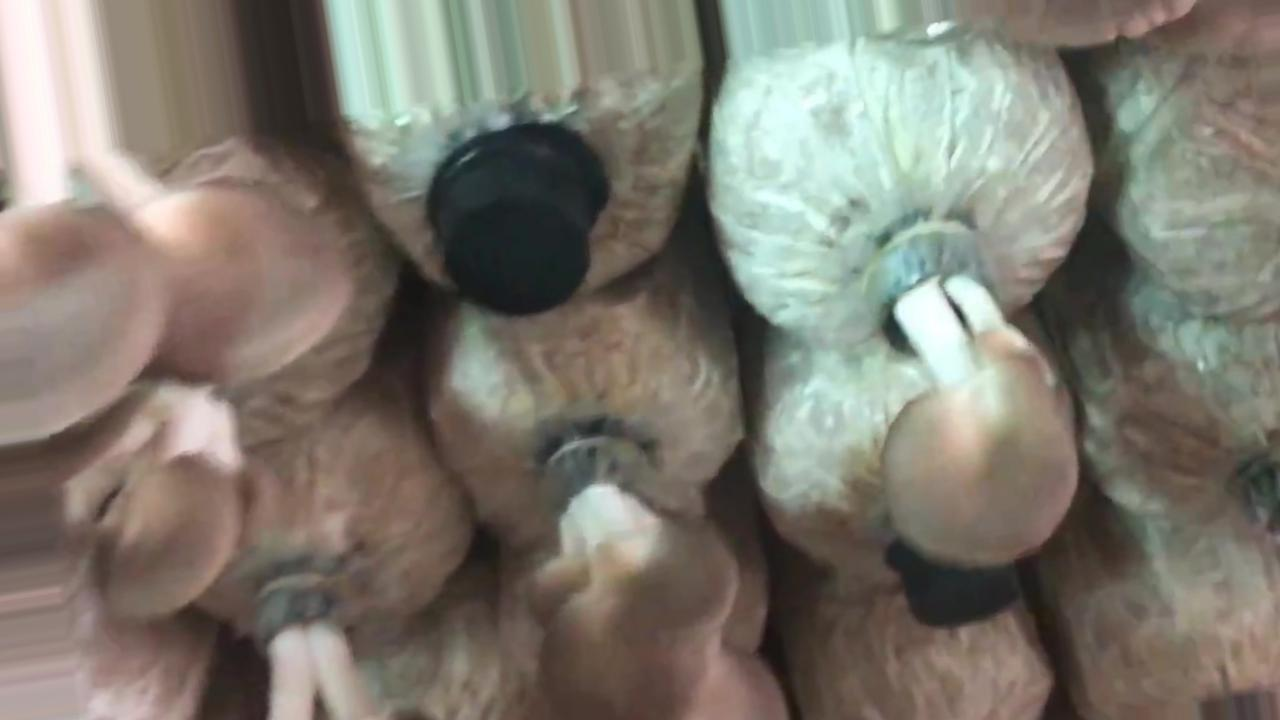nam: (1, 1, 348, 444), (530, 443, 788, 720), (882, 221, 1078, 568), (67, 385, 264, 618)
